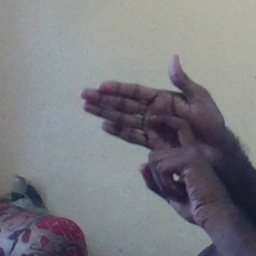R: (79, 50, 215, 183)
